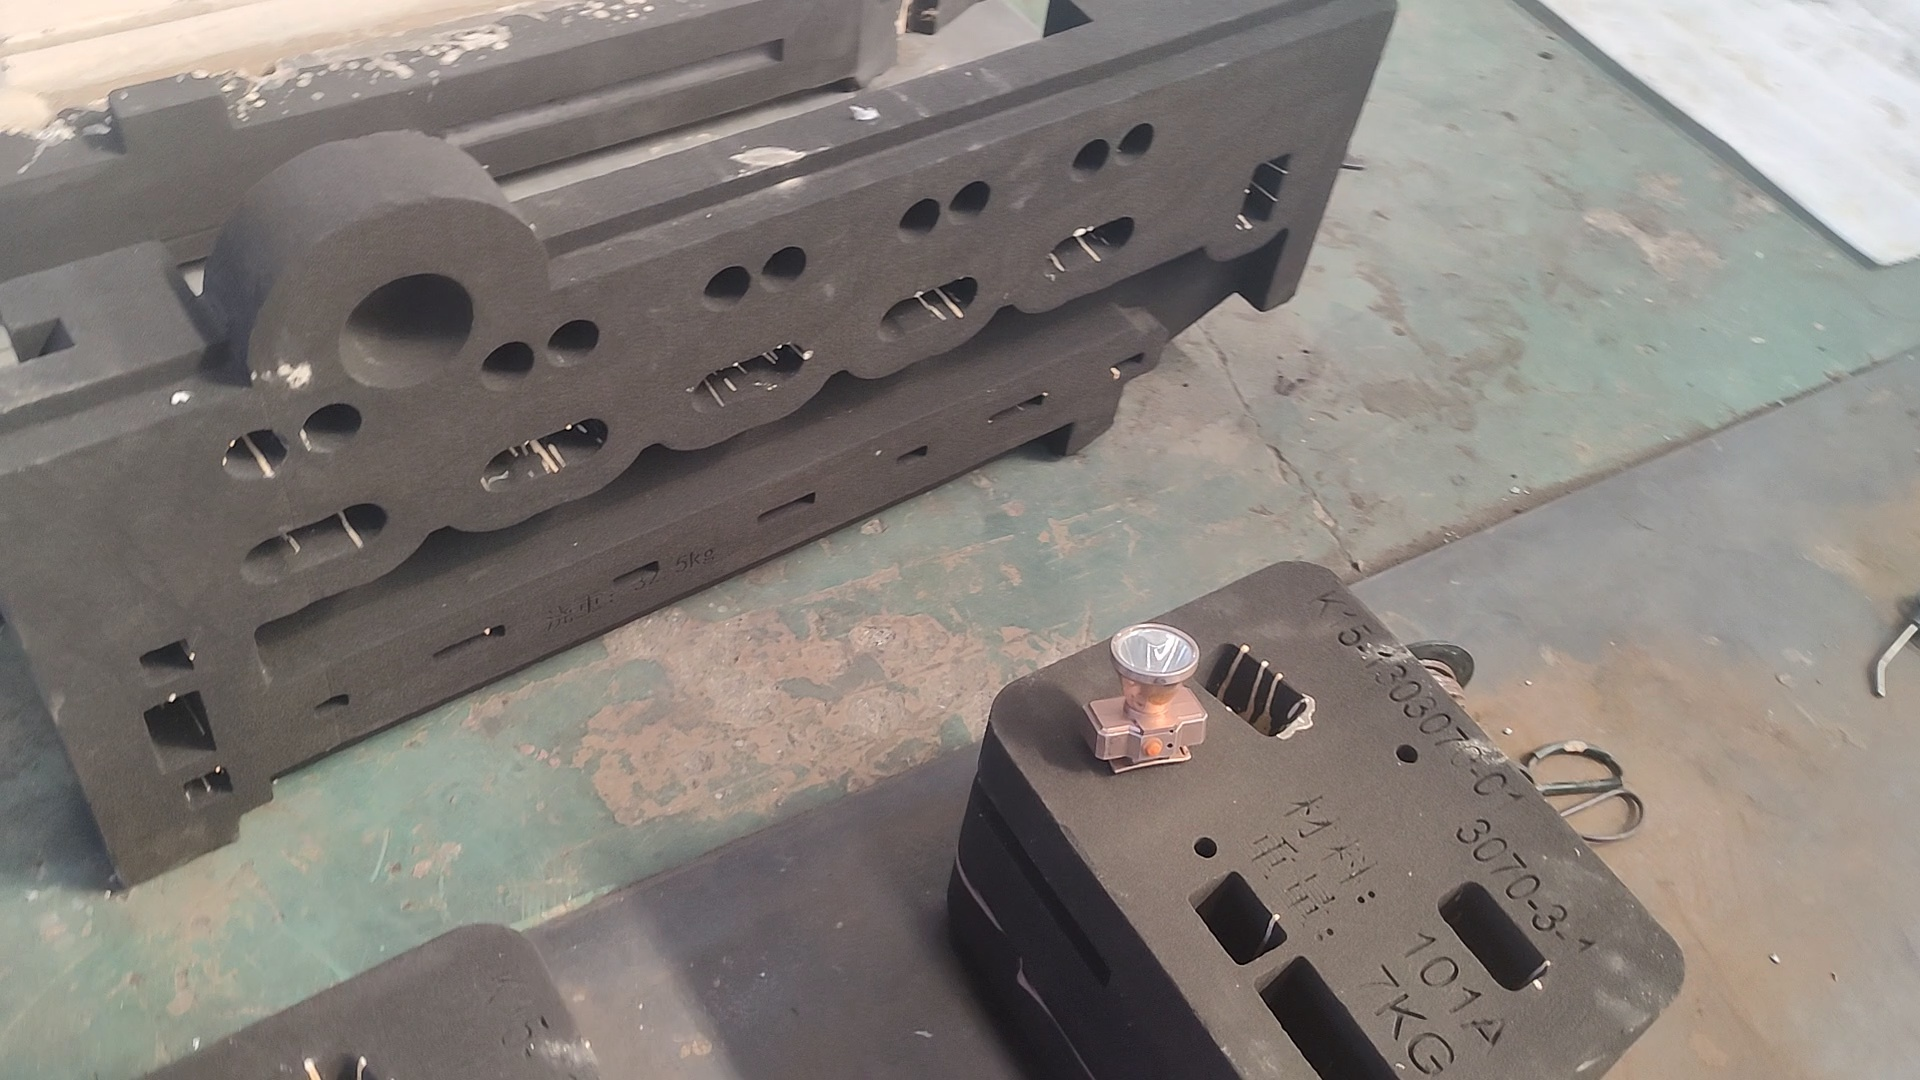pouring hole: (338, 272, 473, 388)
